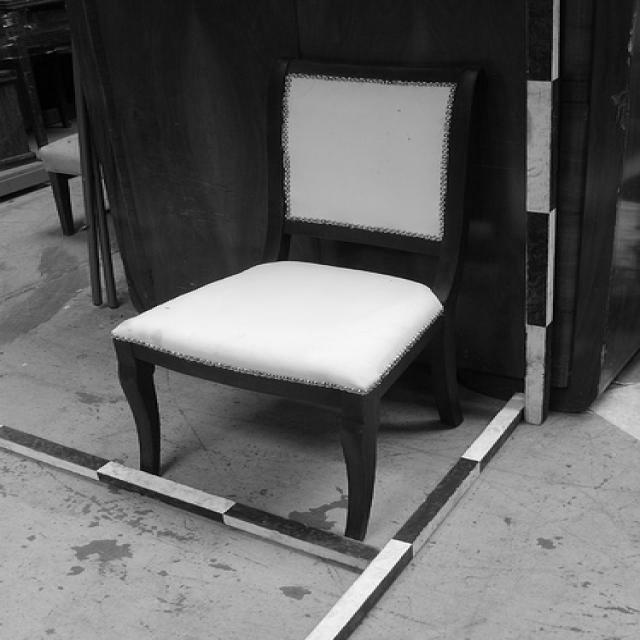chair: (104, 59, 504, 540)
